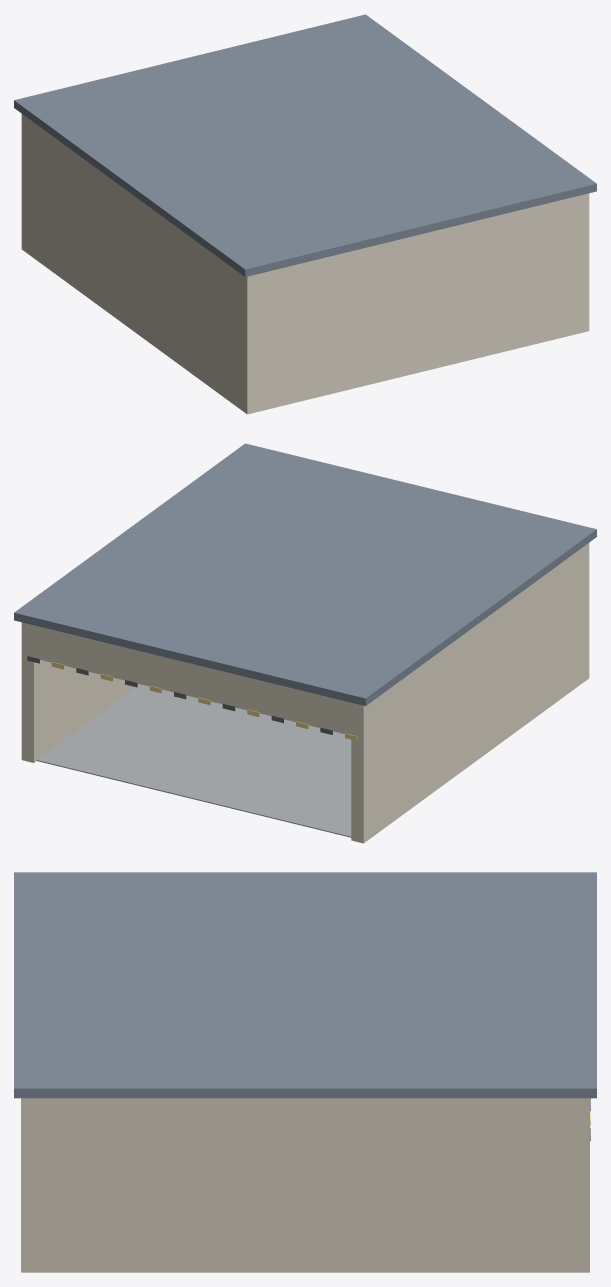
The model's file is garage.glb.
3 renders of one model, top to bottom at view 1: azimuth 30°, elevation 25°; view 2: azimuth 150°, elevation 25°; view 3: azimuth 270°, elevation 25°, orthographic. The views are drawn at different scales.
Parts seen in each view (by area): view 1: Garage; view 2: Garage; view 3: Garage.
Boxes of the visible parts, x1=… form: Garage: x1=14, y1=14, x2=596, y2=414; Garage: x1=14, y1=443, x2=596, y2=843; Garage: x1=14, y1=872, x2=596, y2=1272.
Size of the model in its own units: 14.4 by 5.8 by 16.4.
